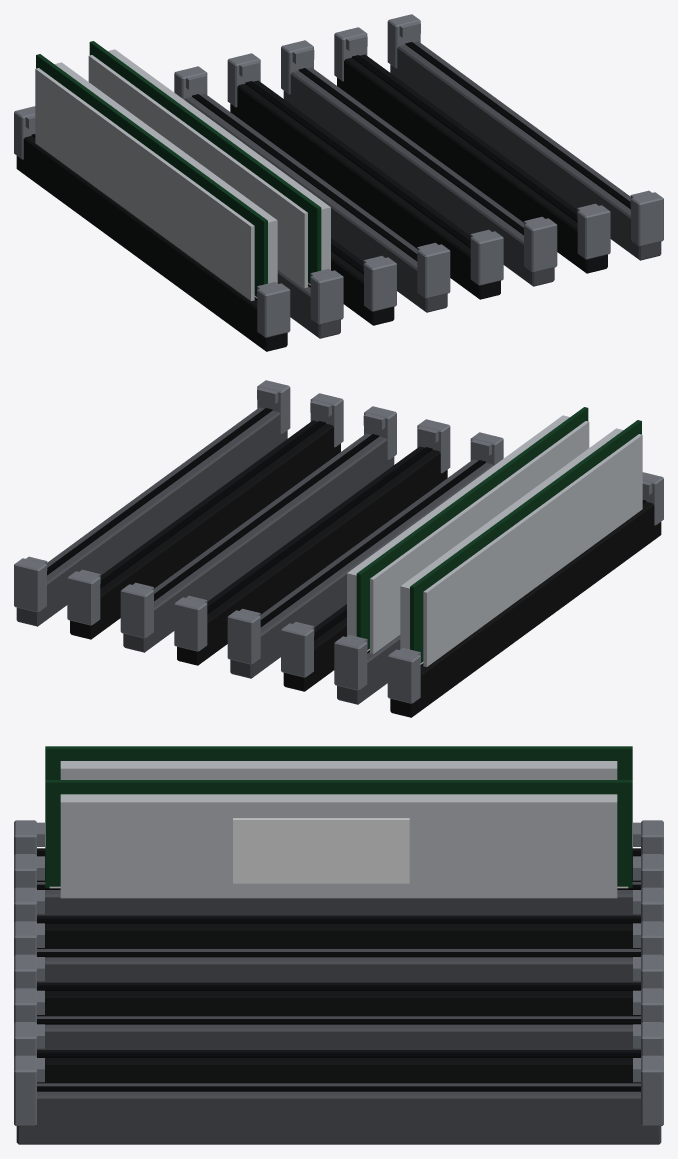
Rendered from hwm_ram_ddr2_16gb.glb.
The picture shows the model from 3 angles, top to bottom: view 1: azimuth 30°, elevation 25°; view 2: azimuth 150°, elevation 25°; view 3: azimuth 270°, elevation 25°; orthographic projection. The views are drawn at different scales.
Visible parts, largest first — view 1: Slots, Stick_0, Stick_1, Latch_1_1, Latch_4_1, Latch_6_1, Latch_5_1, Latch_0_1, Latch_3_1, Latch_7_1, Latch_2_1, Latch_4_0 (+5 smaller); view 2: Slots, Stick_0, Stick_1, Latch_1_0, Latch_4_0, Latch_6_0, Latch_5_0, Latch_0_0, Latch_3_0, Latch_7_0, Latch_2_0, Latch_4_1 (+5 smaller); view 3: Slots, Stick_1, Stick_0, Latch_7_0, Latch_7_1, Latch_2_0, Latch_2_1, Latch_4_0, Latch_4_1, Latch_0_0, Latch_0_1, Latch_5_0 (+7 smaller).
Part boxes in pixels (<box>): Slots: <box>16,41,661,351</box>; Stick_0: <box>35,54,277,300</box>; Stick_1: <box>88,41,330,287</box>; Latch_1_1: <box>310,268,343,324</box>; Latch_4_1: <box>470,229,503,285</box>; Latch_6_1: <box>577,203,610,259</box>; Latch_5_1: <box>524,216,557,272</box>; Latch_0_1: <box>257,282,290,337</box>; Latch_3_1: <box>417,242,450,298</box>; Latch_7_1: <box>630,190,663,246</box>; Latch_2_1: <box>363,256,396,311</box>; Latch_4_0: <box>227,53,260,107</box>; Slots: <box>16,407,661,717</box>; Stick_0: <box>400,420,642,666</box>; Stick_1: <box>347,407,589,653</box>; Latch_1_0: <box>334,634,367,690</box>; Latch_4_0: <box>174,595,207,651</box>; Latch_6_0: <box>67,569,100,625</box>; Latch_5_0: <box>120,582,153,638</box>; Latch_0_0: <box>387,648,420,703</box>; Latch_3_0: <box>227,608,260,664</box>; Latch_7_0: <box>14,556,47,612</box>; Latch_2_0: <box>281,622,314,677</box>; Latch_4_1: <box>417,419,450,473</box>; Slots: <box>16,848,661,1144</box>; Stick_1: <box>45,780,632,898</box>; Stick_0: <box>45,746,632,779</box>; Latch_7_0: <box>633,1055,663,1125</box>; Latch_7_1: <box>14,1055,44,1125</box>; Latch_2_0: <box>633,887,663,922</box>; Latch_2_1: <box>14,887,44,922</box>; Latch_4_0: <box>633,954,663,989</box>; Latch_4_1: <box>14,954,44,989</box>; Latch_0_0: <box>633,820,663,855</box>; Latch_0_1: <box>14,820,44,855</box>; Latch_5_0: <box>633,988,663,1022</box>.
Size of the model in its own units: 0.1346 by 0.0389 by 0.1472.
